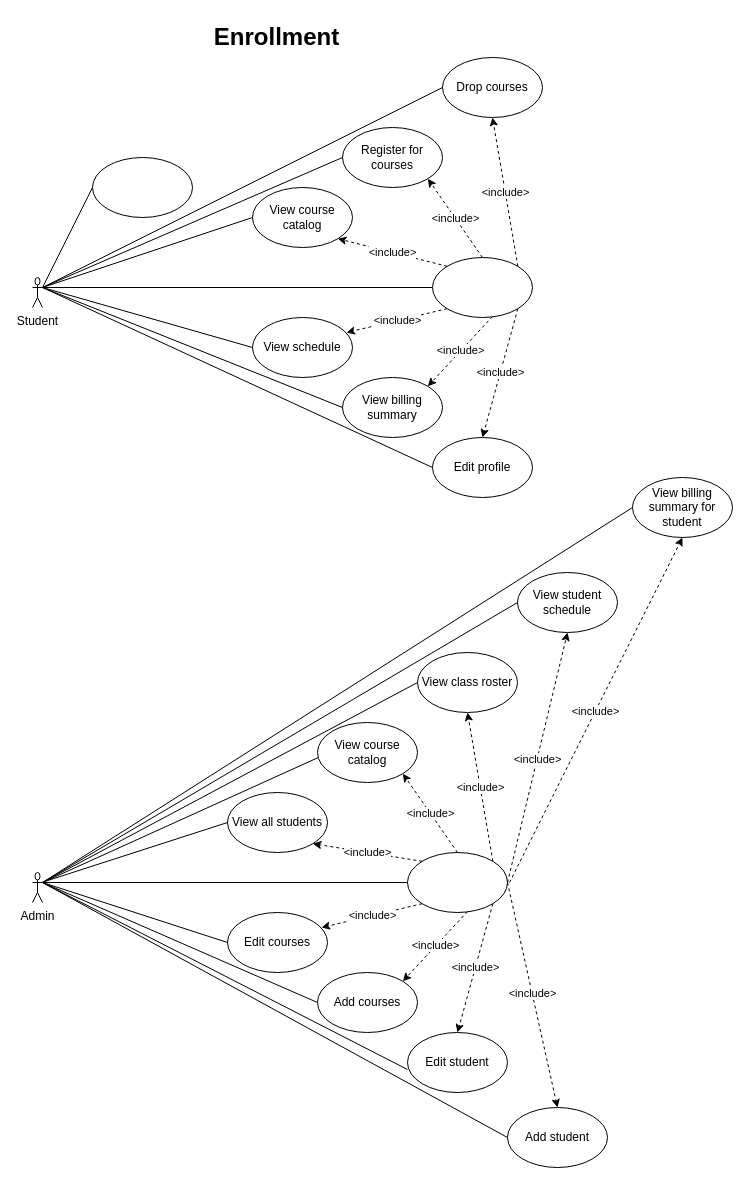
This 750x1185 diagram has some shape labels left out. The box of each missing label's shape, as (x1, y1, x2, y2) in pixels:
Create new profile: (92, 156, 192, 218)
Login as admin: (406, 852, 508, 912)
Login as student: (432, 256, 532, 318)
